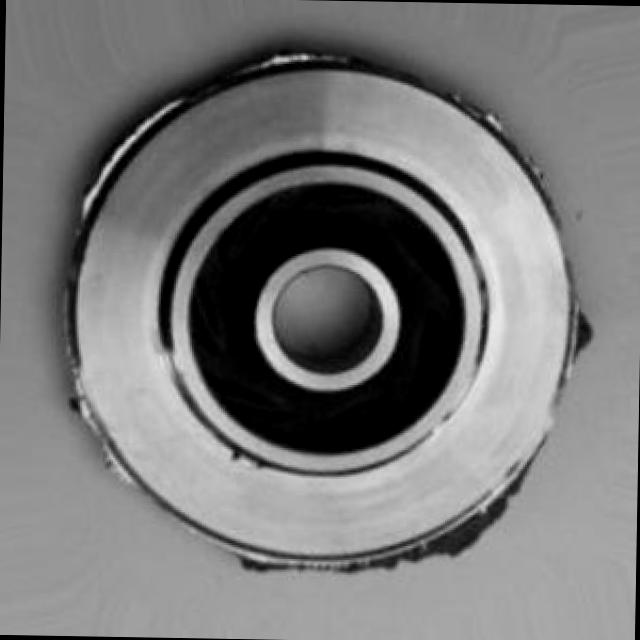Defect: (412, 512, 500, 559)
